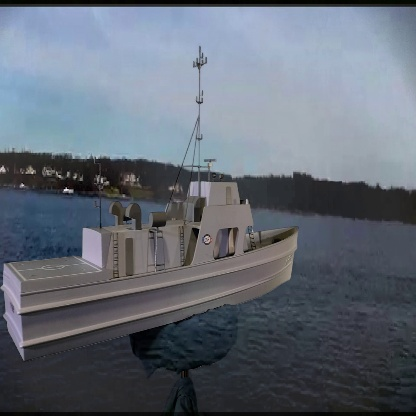YP689: (5, 41, 301, 364)
